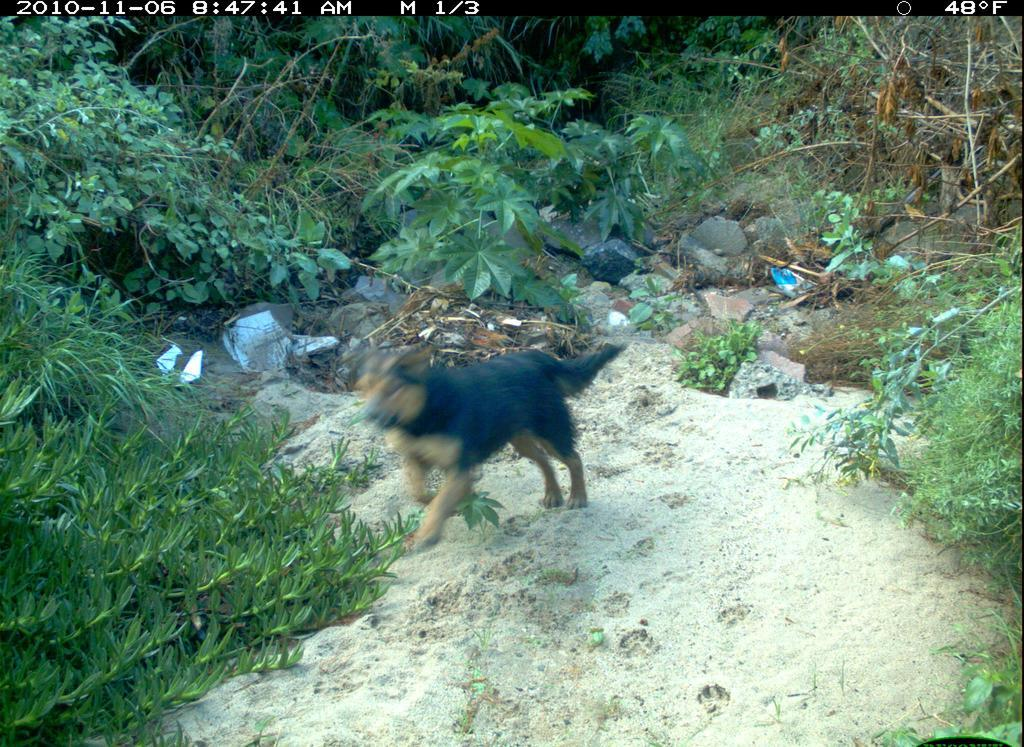dog: (337, 331, 630, 555)
